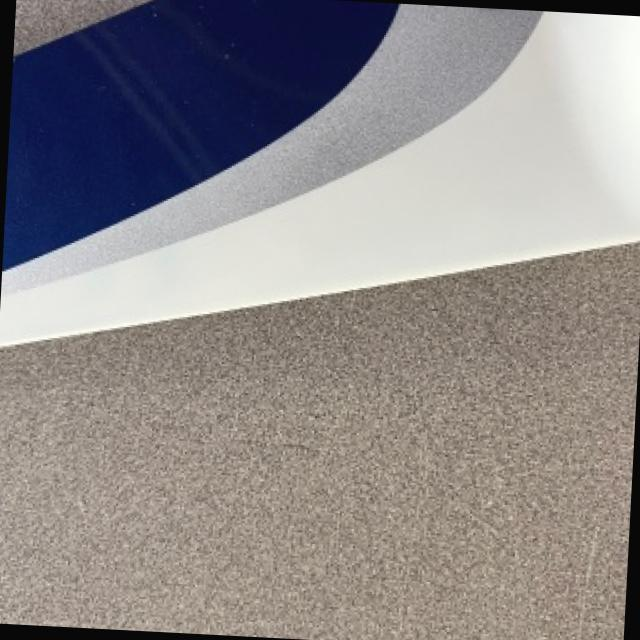healthy: (1, 6, 640, 342)
